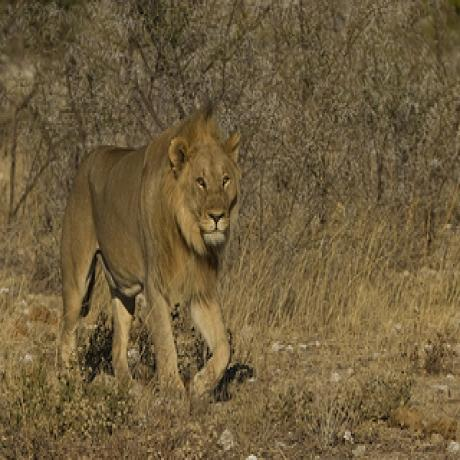Lion: (54, 114, 244, 414)
